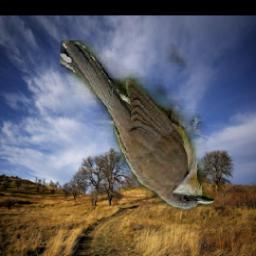Cuckoo: (60, 40, 215, 210)
